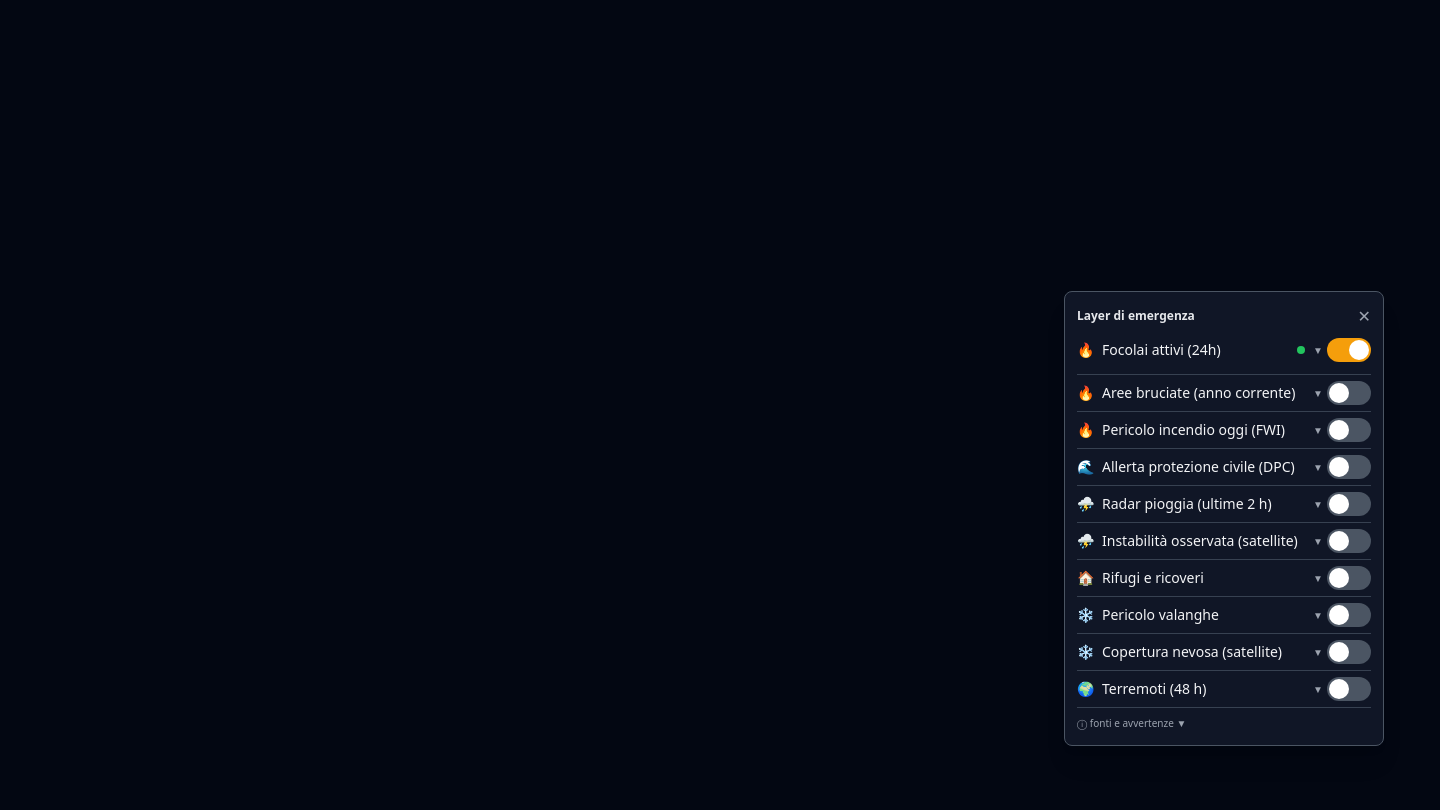
l eta vera dei dati satellitari › l ora del download si chiama "Scaricato", non "Aggiornato"
Click the button "🔥 Focolai attivi (24h) ▼": coordinates (1200, 350) [1077,332,1323,368]
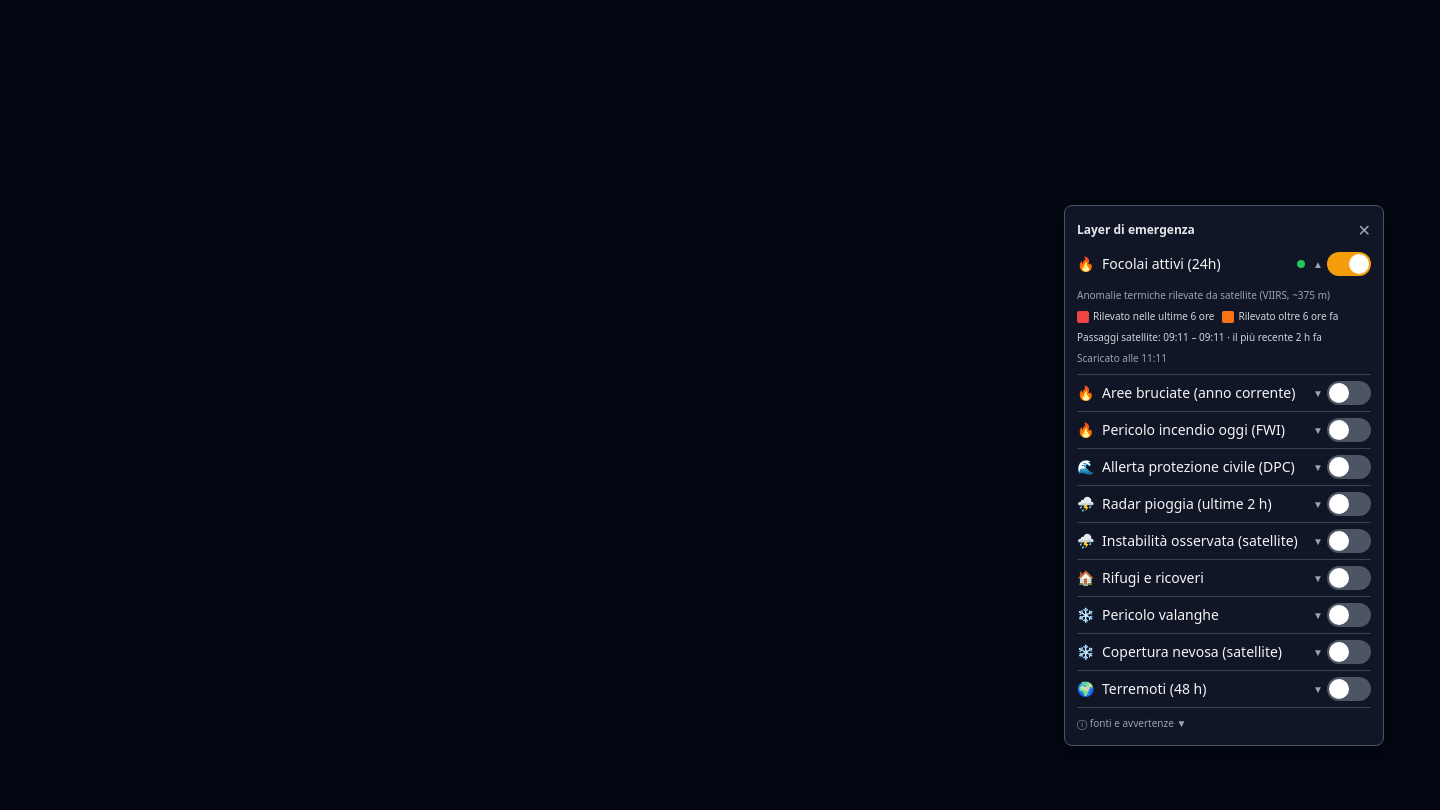
Result: the text "Scaricato alle 11:11" is shown at [1077,351,1167,365]
